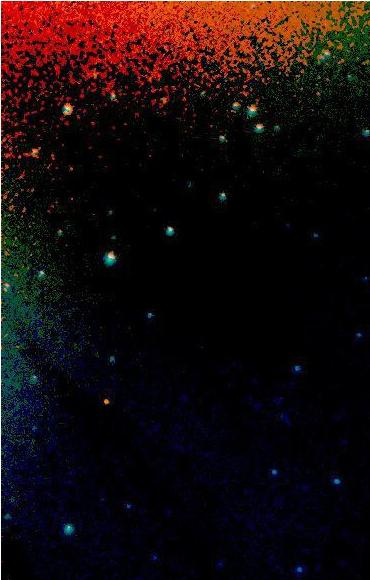star: (91, 385, 121, 415)
